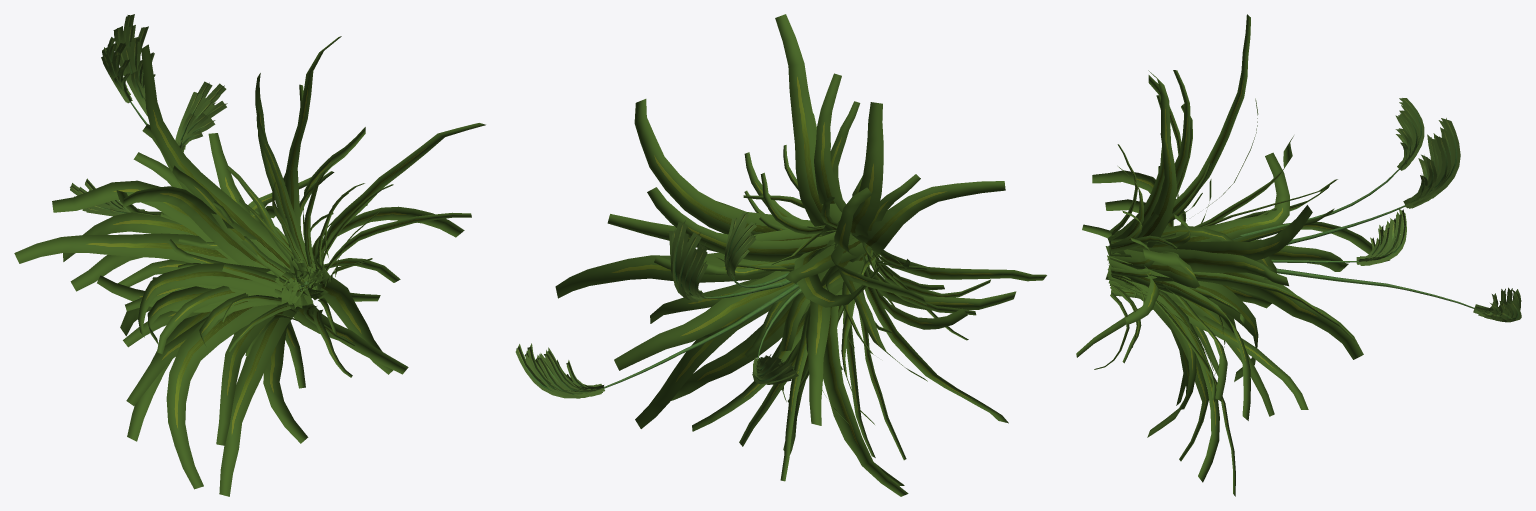
The model's file is plant2.FBX.
The picture shows the model from 3 angles, left to right: view 1: azimuth 30°, elevation 25°; view 2: azimuth 150°, elevation 25°; view 3: azimuth 270°, elevation 25°; orthographic projection. The views are drawn at different scales.
Parts seen in each view (by area): view 1: plant2_LOD0; view 2: plant2_LOD0; view 3: plant2_LOD0.
Boxes of the visible parts, x1=… form: plant2_LOD0: x1=14, y1=14, x2=485, y2=496; plant2_LOD0: x1=515, y1=14, x2=1046, y2=496; plant2_LOD0: x1=1076, y1=14, x2=1521, y2=496.
Size of the model in its own units: 63.31 by 62.26 by 64.77.
